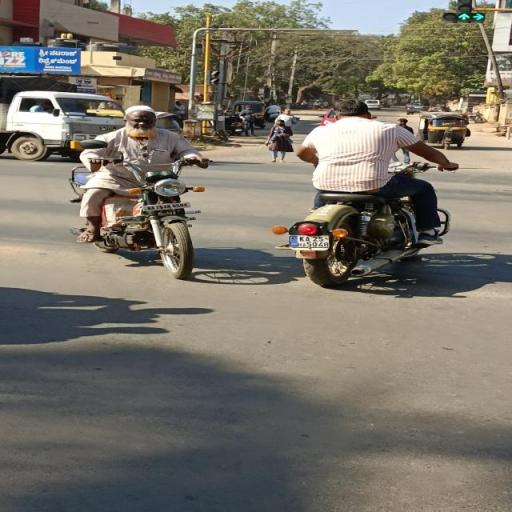bike: (268, 98, 459, 289)
numberplate: (288, 233, 334, 251)
withouthelmet: (334, 101, 368, 117)
